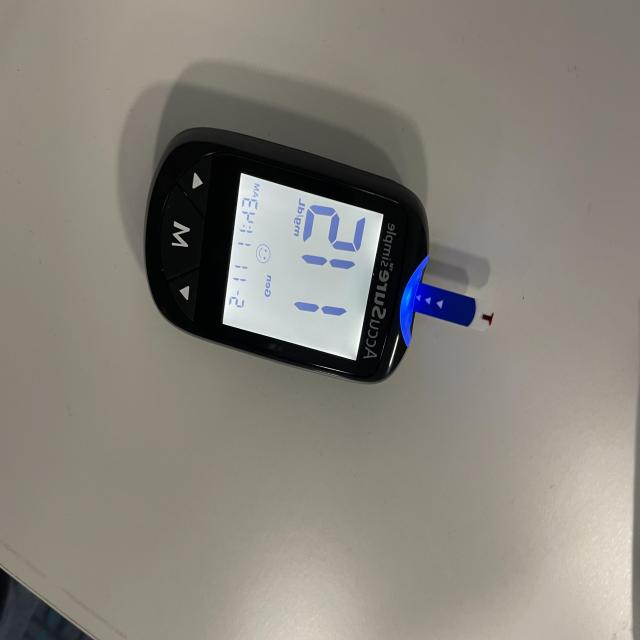gluco: (141, 124, 440, 385)
